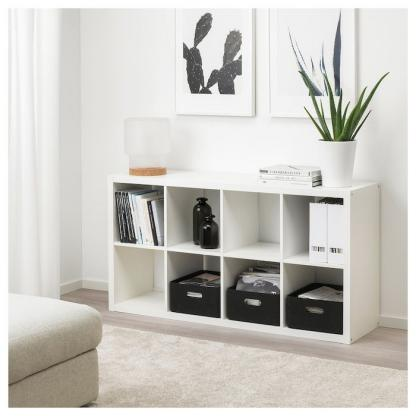lamp: (107, 167, 382, 345)
